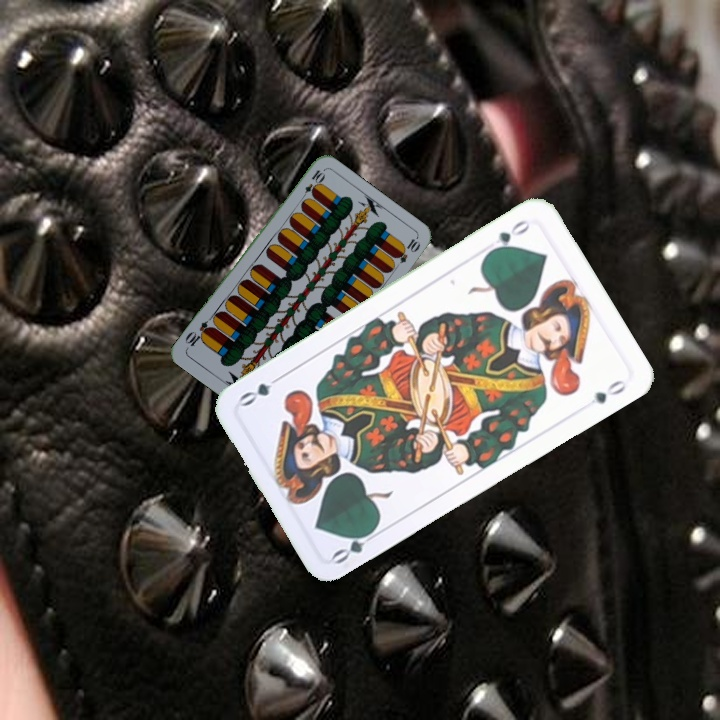E10: (297, 166, 327, 203)
GO: (328, 523, 383, 567), (484, 215, 533, 257)
